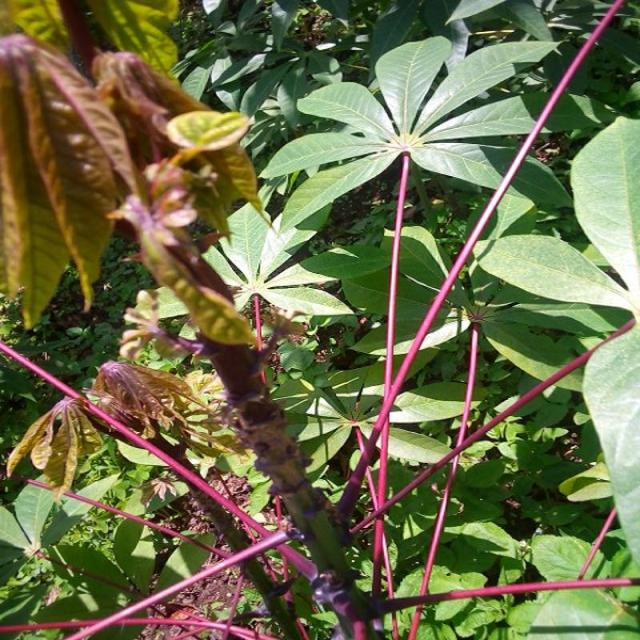cassava leaf: (2, 1, 638, 638), (258, 33, 558, 234)
